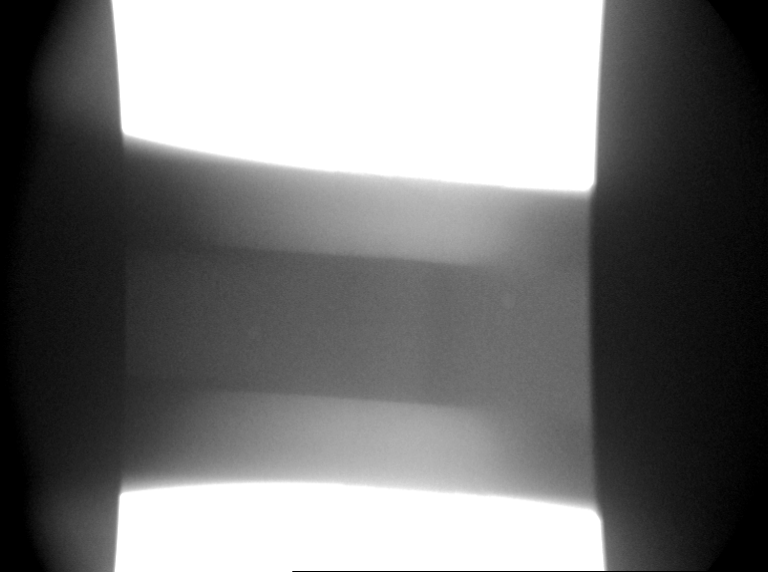defect: (241, 322, 268, 342)
